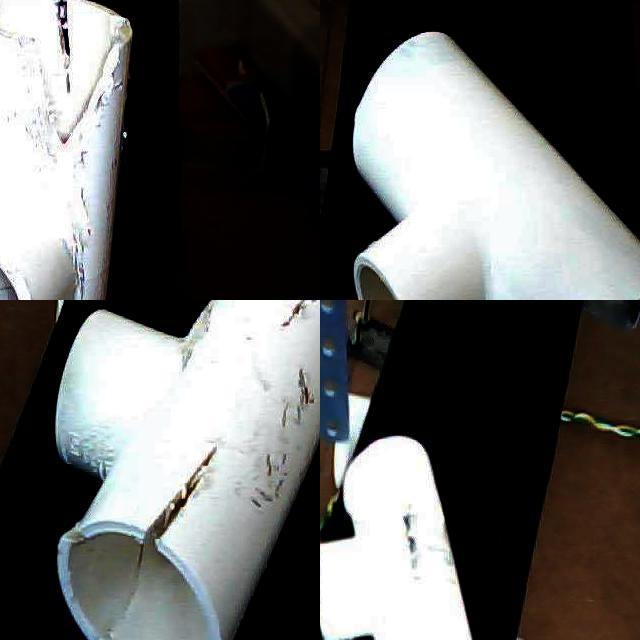Defective: (13, 30, 139, 184), (131, 440, 241, 598), (44, 0, 93, 98), (68, 197, 112, 300)
T Joint: (54, 300, 320, 640), (350, 31, 640, 300), (320, 434, 478, 640)
